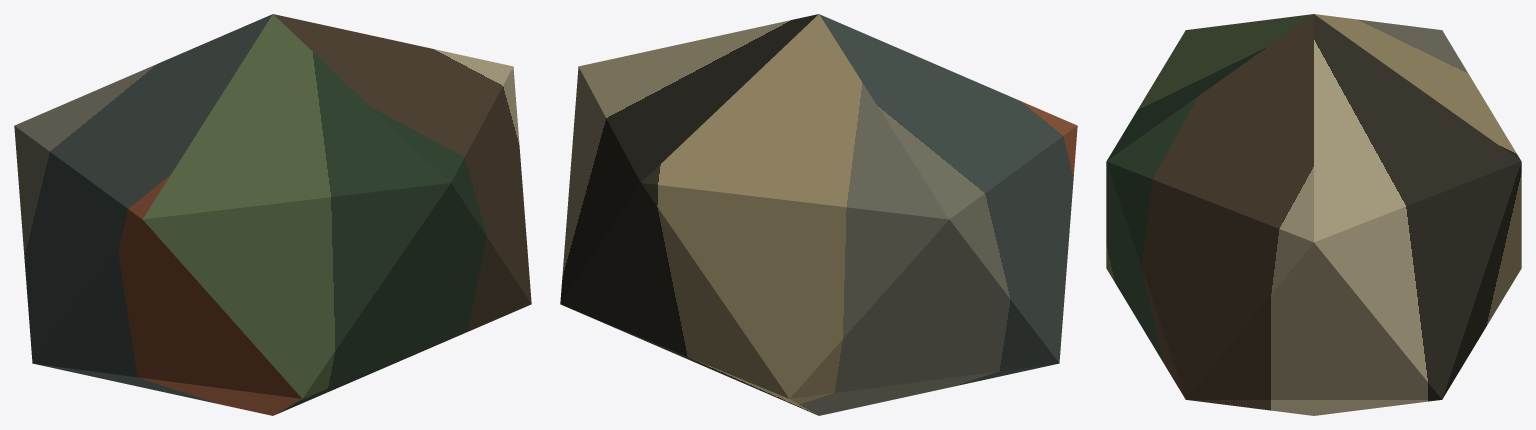
Rendered from LibraryRock.obj.
3 renders of one model, left to right at view 1: azimuth 30°, elevation 25°; view 2: azimuth 150°, elevation 25°; view 3: azimuth 270°, elevation 25°, orthographic.
Visible parts, largest first — view 1: LibraryRock; view 2: LibraryRock; view 3: LibraryRock.
Boxes of the visible parts, x1,y1,x2,y2 form: LibraryRock: (14, 14, 531, 415); LibraryRock: (560, 14, 1077, 415); LibraryRock: (1106, 14, 1521, 415).
Size of the model in its own units: 2.5 by 2 by 1.87.
1 material, 1 textured.
